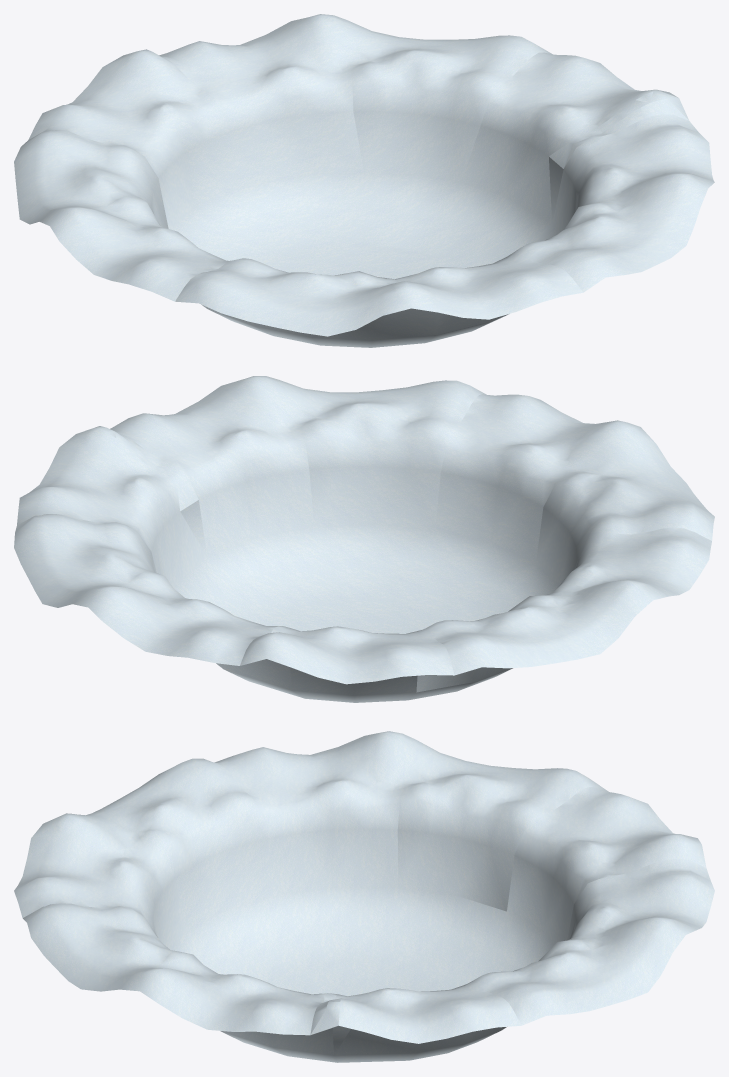
Rendered from SnowMountains.fbx.
The picture shows the model from 3 angles, top to bottom: view 1: azimuth 30°, elevation 25°; view 2: azimuth 150°, elevation 25°; view 3: azimuth 270°, elevation 25°; orthographic projection.
Parts seen in each view (by area): view 1: mesh-0; view 2: mesh-0; view 3: mesh-0.
Part boxes in pixels (<box>): mesh-0: <box>14,14,714,347</box>; mesh-0: <box>14,376,714,702</box>; mesh-0: <box>14,731,714,1062</box>.
Bounding box in the file's own units: 5362200 × 1192048 × 5362200.
Materials: 1 (1 with a texture image).
